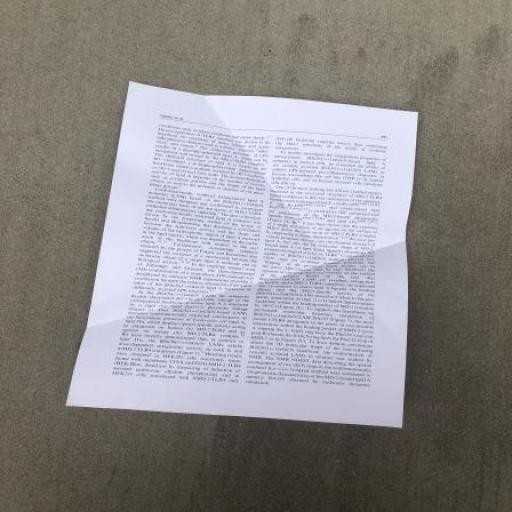paper: (42, 47, 463, 454)
